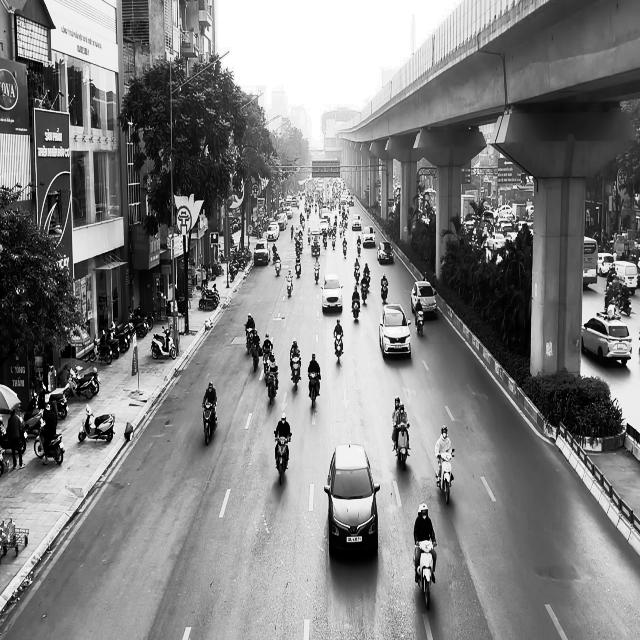bus: (582, 236, 598, 288)
car: (324, 444, 380, 556), (581, 314, 632, 366), (379, 302, 411, 359), (411, 280, 437, 320), (321, 273, 343, 312), (377, 241, 394, 263), (362, 226, 376, 247)
motorbike: (414, 538, 436, 610), (78, 403, 115, 443), (34, 422, 64, 466), (435, 448, 455, 505), (274, 431, 291, 485), (151, 326, 176, 359), (393, 424, 410, 469), (202, 400, 217, 446), (265, 365, 279, 405), (308, 371, 320, 408), (290, 355, 301, 390), (334, 332, 343, 364), (251, 342, 260, 372), (415, 309, 424, 336), (351, 297, 360, 320), (285, 274, 293, 297), (381, 281, 388, 303), (314, 262, 320, 284)
